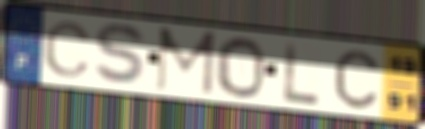C: (332, 48, 381, 111), (42, 20, 94, 79)
L: (283, 39, 322, 107)
M: (152, 25, 219, 97)
O: (214, 35, 267, 100)
S: (91, 21, 152, 88)
